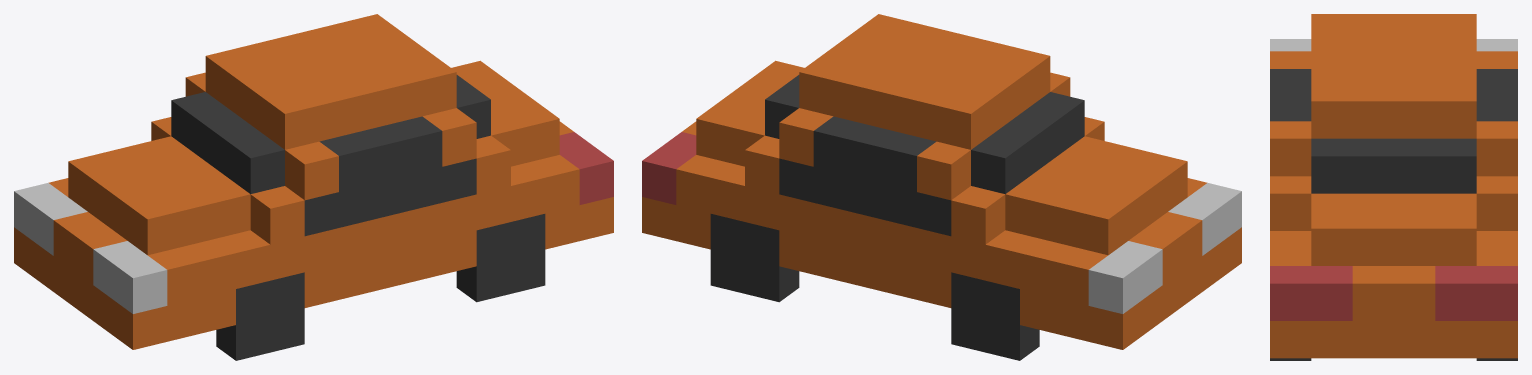
Rendered from car-v6-orange.gltf.
3 views of the same model, side by side, from view 1: azimuth 30°, elevation 25°; view 2: azimuth 150°, elevation 25°; view 3: azimuth 270°, elevation 25° (orthographic). The views are drawn at different scales.
Parts seen in each view (by area): view 1: model, wheels; view 2: model, wheels; view 3: model, wheels.
Boxes of the visible parts, x1,y1,x2,y2 form: model: (14, 14, 613, 349); wheels: (216, 214, 545, 360); model: (642, 14, 1241, 349); wheels: (710, 214, 1039, 360); model: (1270, 14, 1517, 358); wheels: (1270, 358, 1517, 360).
Size of the model in its own units: 1.4 by 0.6 by 0.6.
2 materials, 2 textured.
